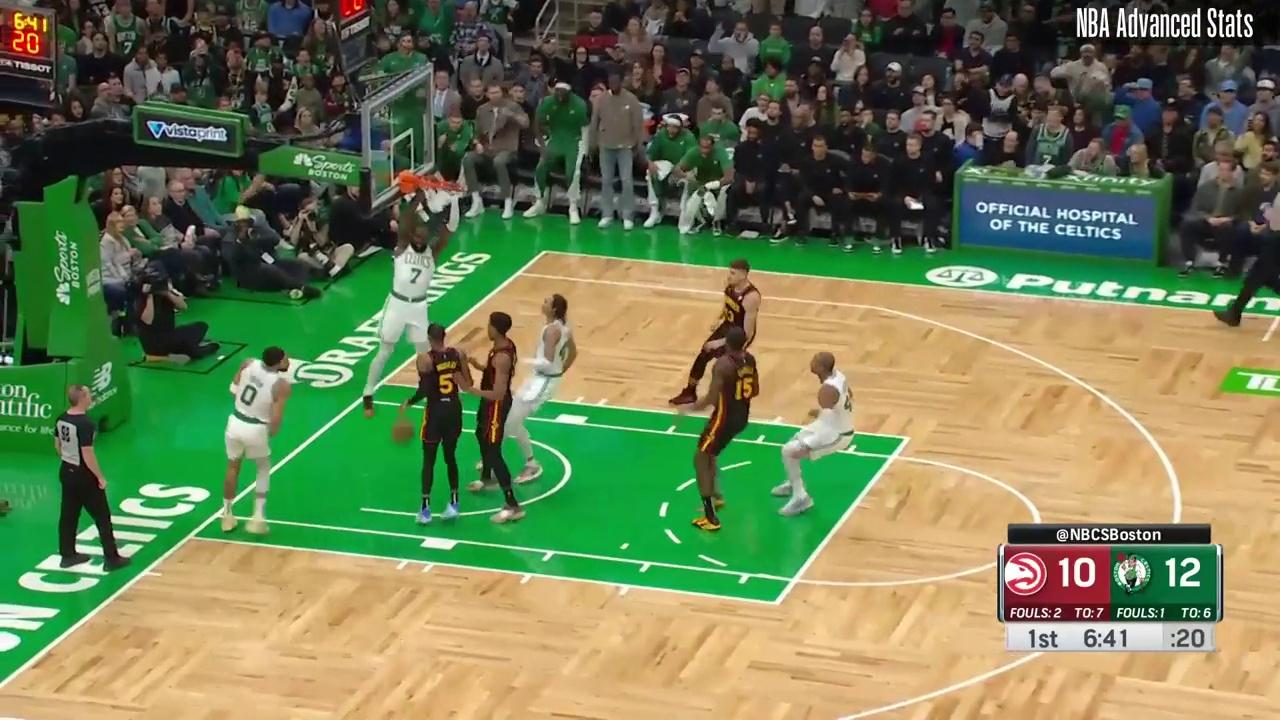3_dx: (513, 268, 525, 279)
b_dx: (540, 245, 553, 258)
free_adx: (900, 433, 913, 444)
free_asx: (770, 597, 781, 607)
free_bdx: (377, 377, 388, 387)
free_bsx: (184, 529, 197, 543)
mid_dx: (1259, 334, 1272, 346)
referee: (54, 383, 132, 573), (1212, 180, 1280, 327)
team: (363, 186, 458, 418), (481, 293, 578, 483), (772, 350, 854, 516), (220, 345, 292, 532)
team1: (457, 310, 527, 525), (401, 322, 474, 523), (669, 256, 762, 406), (691, 325, 758, 531)
timer: (1081, 623, 1132, 650)
